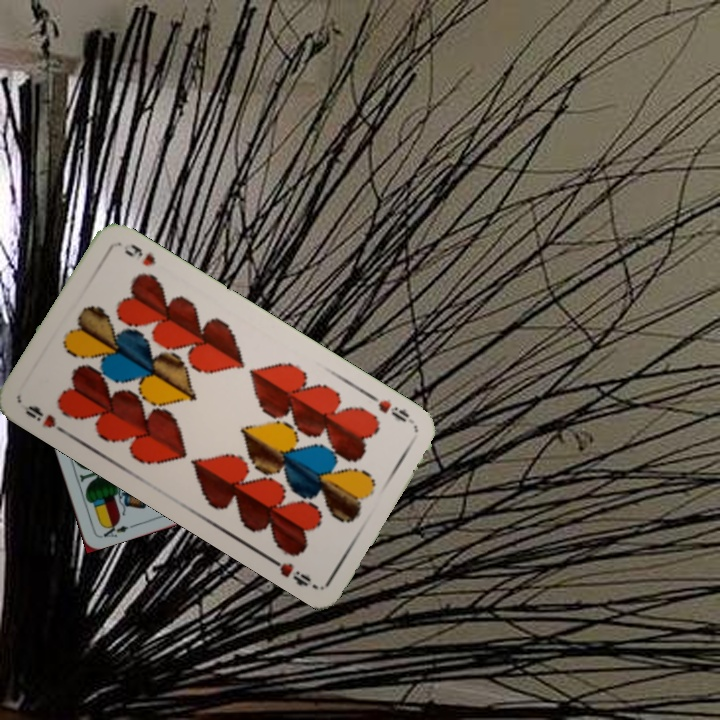EA: (97, 518, 131, 540)
H9: (364, 389, 418, 428), (18, 400, 71, 438)
